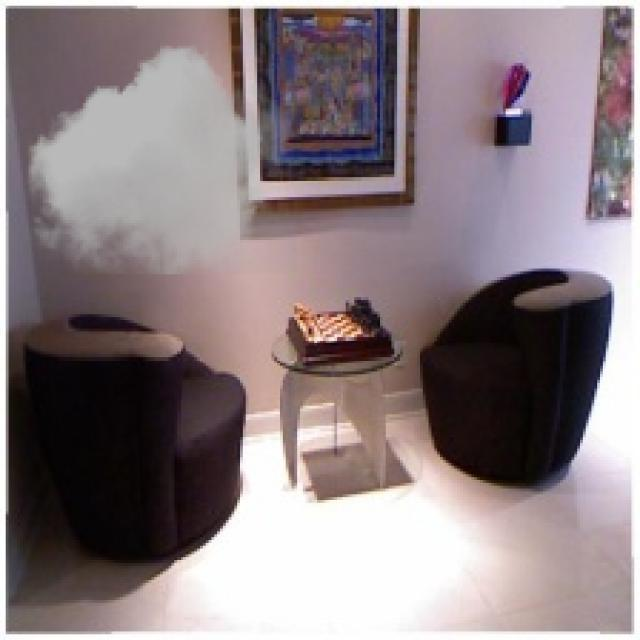Smoke: (22, 46, 298, 274)
